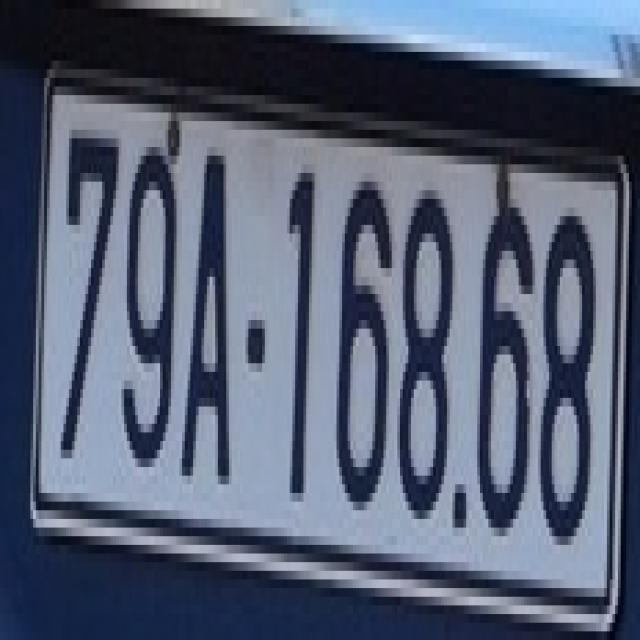1: (273, 147, 323, 493)
6: (466, 165, 535, 528), (336, 170, 394, 502)
7: (56, 118, 122, 476)
8: (532, 190, 598, 536), (392, 173, 454, 516)
9: (120, 121, 176, 484)
A: (179, 130, 229, 476)
